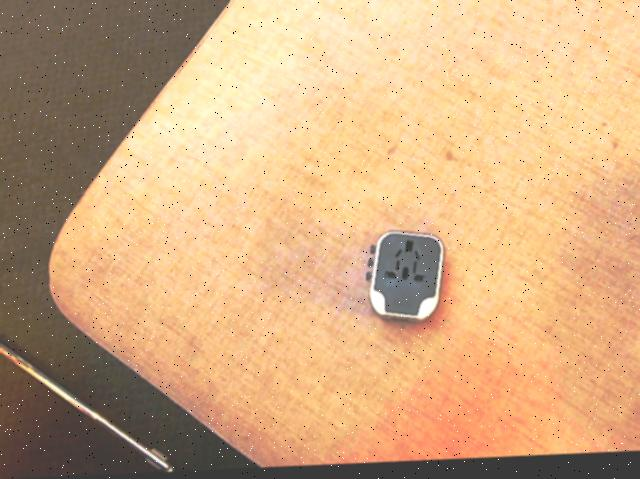adapter: (366, 232, 444, 327)
